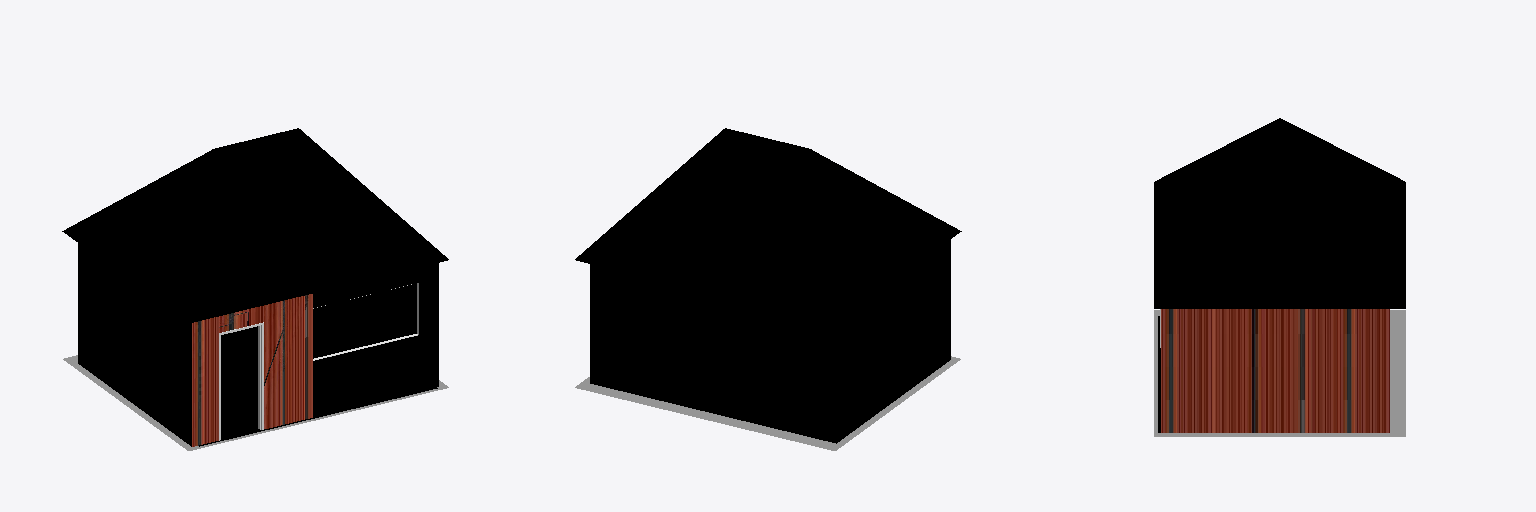
The picture shows the model from 3 angles: view 1: azimuth 30°, elevation 25°; view 2: azimuth 150°, elevation 25°; view 3: azimuth 270°, elevation 25°; orthographic projection.
Visible parts, largest first — view 1: choza1:polySurface1; view 2: choza1:polySurface1; view 3: choza1:polySurface1.
Boxes of the visible parts, x1=… form: choza1:polySurface1: x1=62, y1=128, x2=448, y2=450; choza1:polySurface1: x1=575, y1=128, x2=961, y2=450; choza1:polySurface1: x1=1154, y1=118, x2=1405, y2=436.
Size of the model in its own units: 7.07 by 6.08 by 5.93.
Materials: 6 (2 with a texture image).